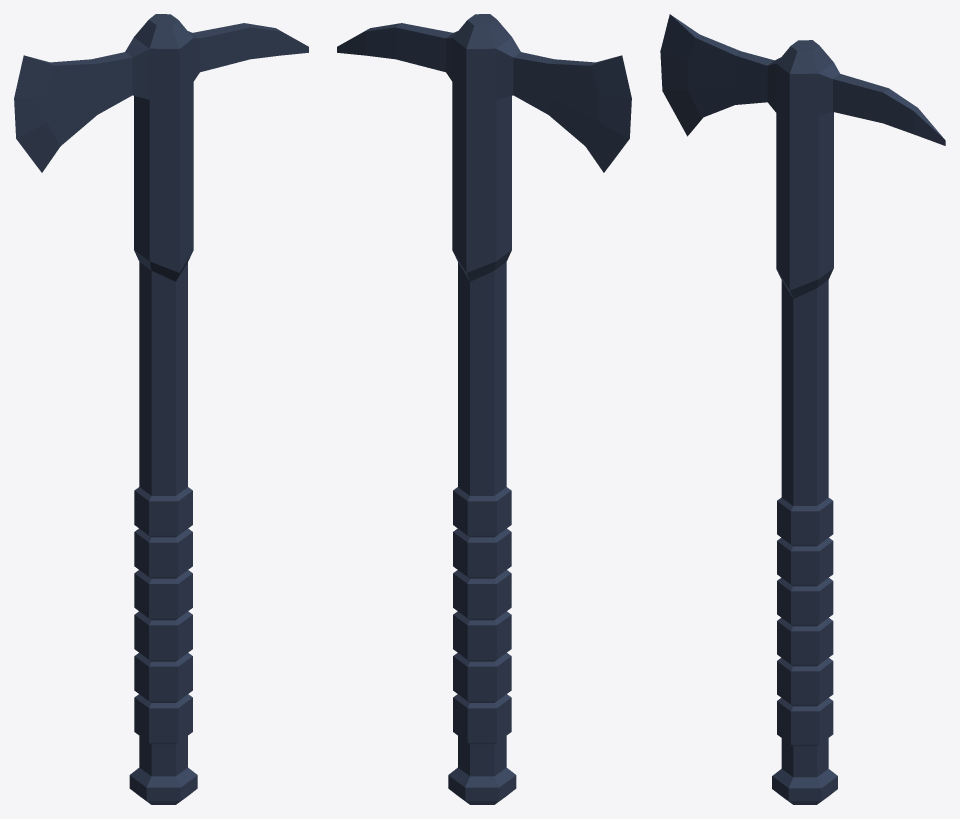
Rendered from BoardingAxeAlt.obj.
3 views of the same model, side by side, from view 1: azimuth 30°, elevation 25°; view 2: azimuth 150°, elevation 25°; view 3: azimuth 330°, elevation 25° (orthographic). The views are drawn at different scales.
Visible parts, largest first — view 1: BoardingAxeAlt_Cylinder.000; view 2: BoardingAxeAlt_Cylinder.000; view 3: BoardingAxeAlt_Cylinder.000.
Part boxes in pixels (box(x1,y1,x2,y2)): BoardingAxeAlt_Cylinder.000: box(14, 14, 308, 804); BoardingAxeAlt_Cylinder.000: box(337, 14, 631, 804); BoardingAxeAlt_Cylinder.000: box(660, 14, 945, 804).
Size of the model in its own units: 11.18 by 28.12 by 2.24.
